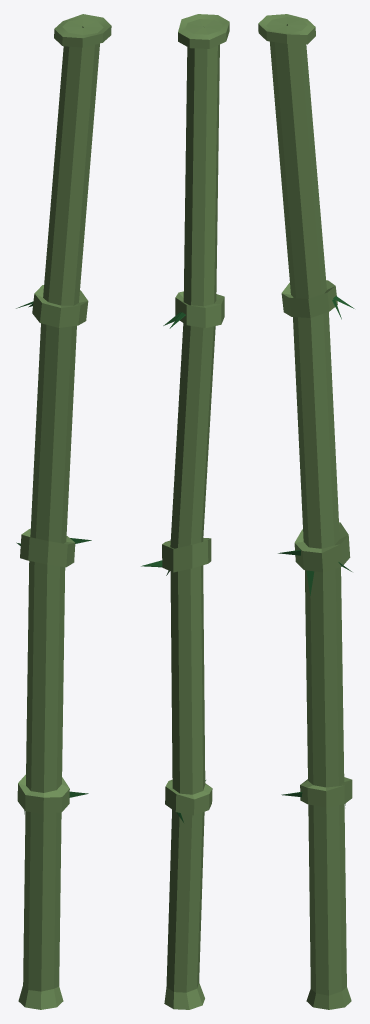
The model's file is 0_bamboo3.fbx.
3 renders of one model, left to right at view 1: azimuth 90°, elevation 25°; view 2: azimuth 150°, elevation 25°; view 3: azimuth 270°, elevation 25°, orthographic.
Parts seen in each view (by area): view 1: Grass_bush_low_01.016; view 2: Grass_bush_low_01.016; view 3: Grass_bush_low_01.016.
Part boxes in pixels (<box>): Grass_bush_low_01.016: <box>16,14,111,1009</box>; Grass_bush_low_01.016: <box>141,14,229,1009</box>; Grass_bush_low_01.016: <box>258,14,354,1009</box>.
Size of the model in its own units: 41.95 by 641 by 57.83.
